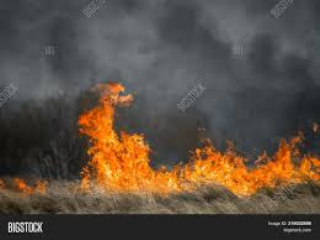fire: (69, 77, 318, 195)
